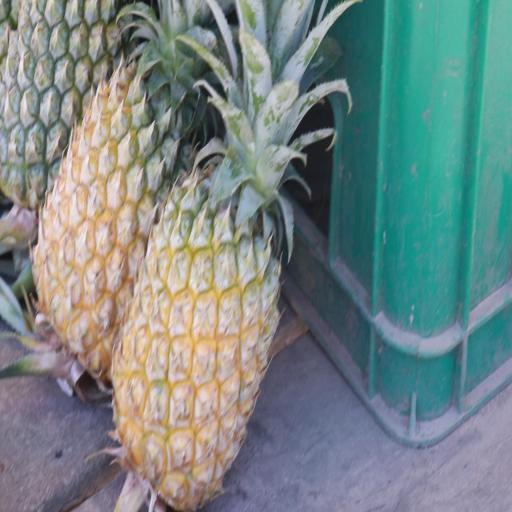Pineapple - v8 v1: (101, 105, 282, 512), (26, 18, 200, 389)
